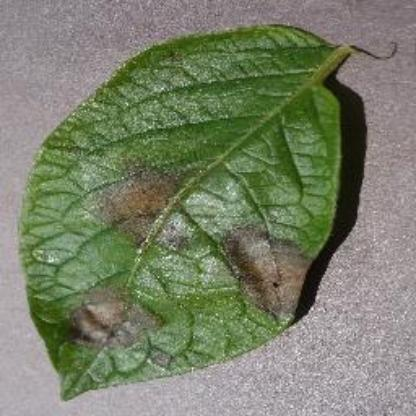Late-Blight: (16, 13, 390, 408)
